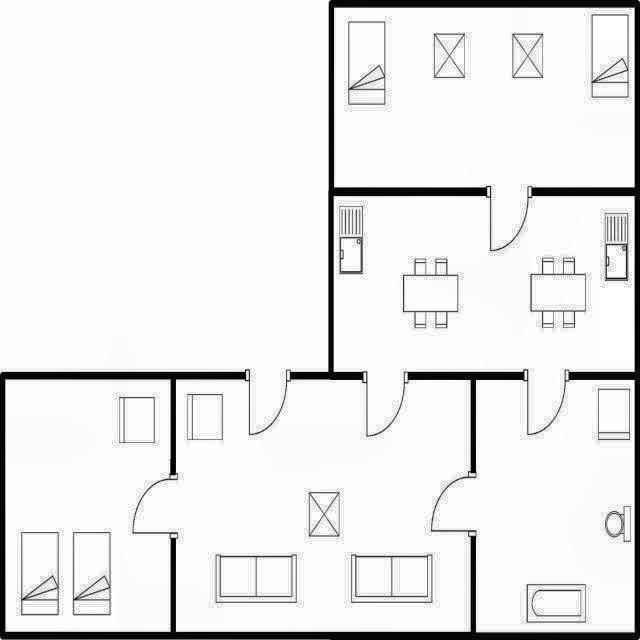room: (176, 380, 470, 631), (334, 8, 635, 186), (335, 197, 635, 370), (6, 379, 170, 630), (476, 381, 635, 632)
